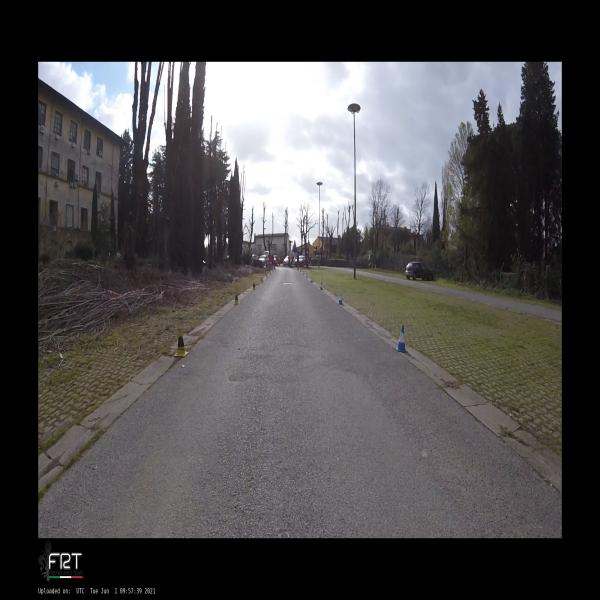blue_cone: (394, 326, 408, 352), (338, 294, 342, 305), (320, 281, 323, 290), (311, 277, 313, 282), (306, 274, 308, 278)
yellow_cone: (174, 329, 189, 357), (234, 294, 240, 305), (252, 281, 256, 289), (261, 277, 263, 283), (266, 274, 268, 278)
